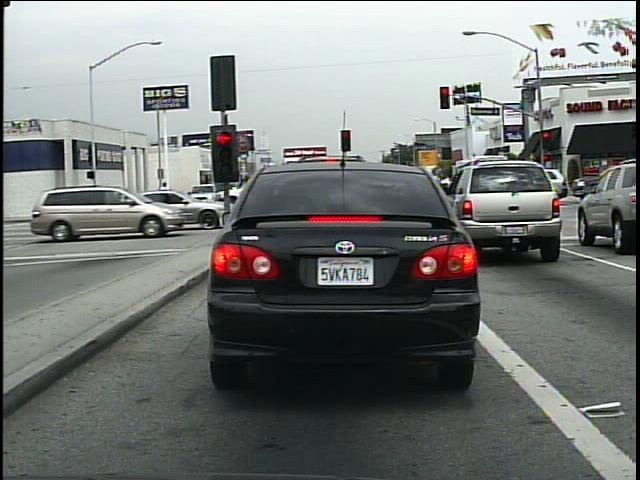person: (153, 178, 175, 217)
